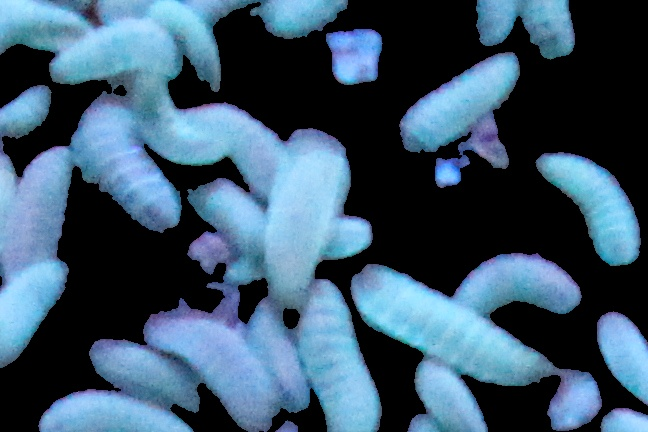larvae: (346, 252, 557, 385), (433, 241, 595, 349), (64, 101, 190, 233), (394, 44, 534, 160), (260, 129, 352, 304), (148, 311, 289, 425), (527, 146, 641, 267), (292, 274, 370, 432), (1, 249, 88, 387), (192, 96, 286, 199), (85, 336, 204, 410), (12, 148, 85, 266), (55, 29, 186, 92), (129, 84, 226, 169), (28, 382, 192, 432), (184, 178, 272, 254), (150, 1, 226, 85), (595, 304, 648, 411), (412, 363, 493, 432), (2, 85, 57, 137)
